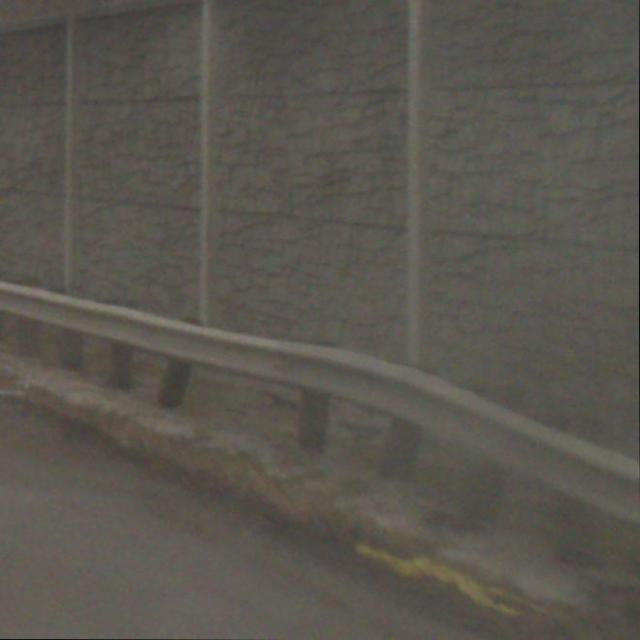Guard rail: (0, 269, 640, 582)
